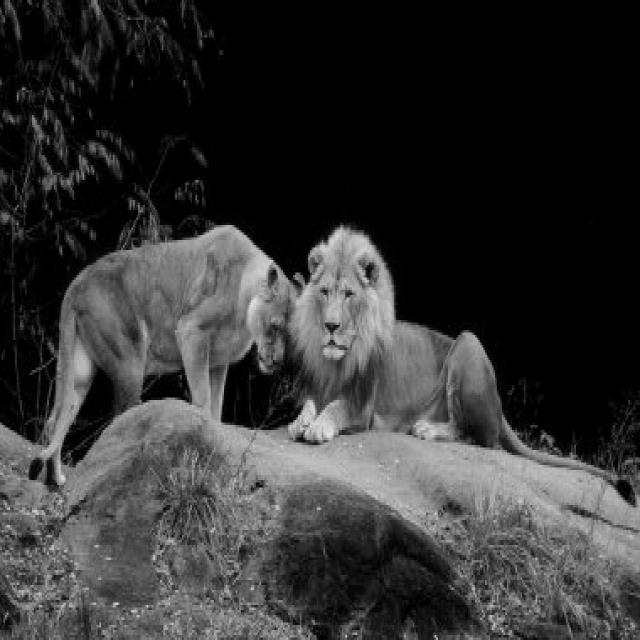Animal: (289, 226, 614, 484), (30, 225, 302, 485)
